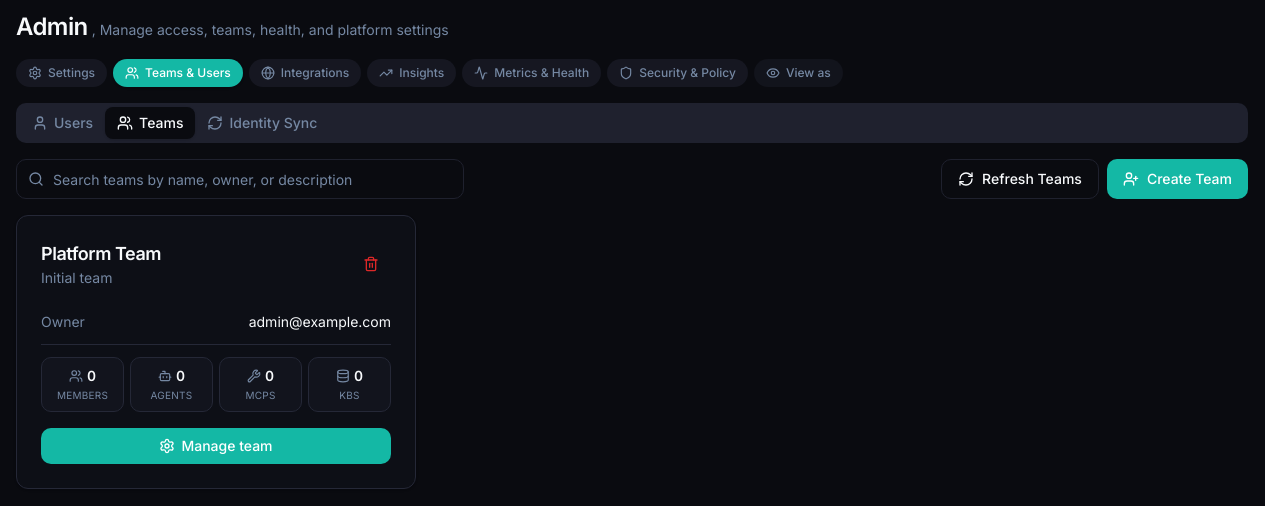
Scenario: Admin Dashboard Page › Admin mode › refreshes teams from the database without reloading the whole admin dashboard
The image size is (1265, 506).
Expected: the text "Platform Team" is shown, [41,240,161,268]
Click the button "Refresh Teams": x=1020, y=179 [941,159,1099,199]
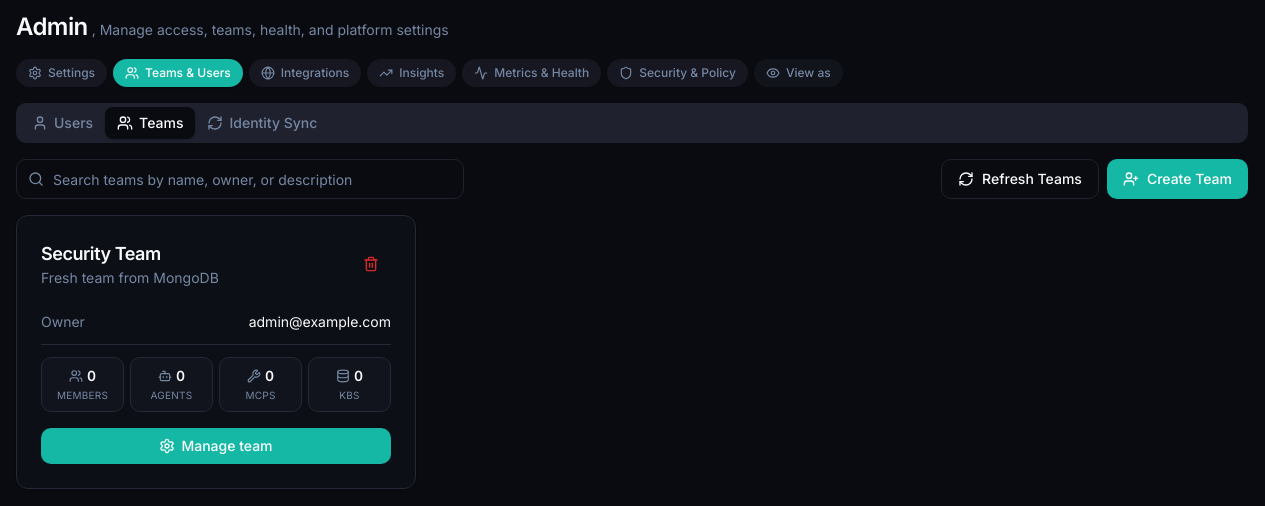
Expected: the text "Security Team" is shown, [41,240,161,268]
Expected: the text "Platform Team" is gone
